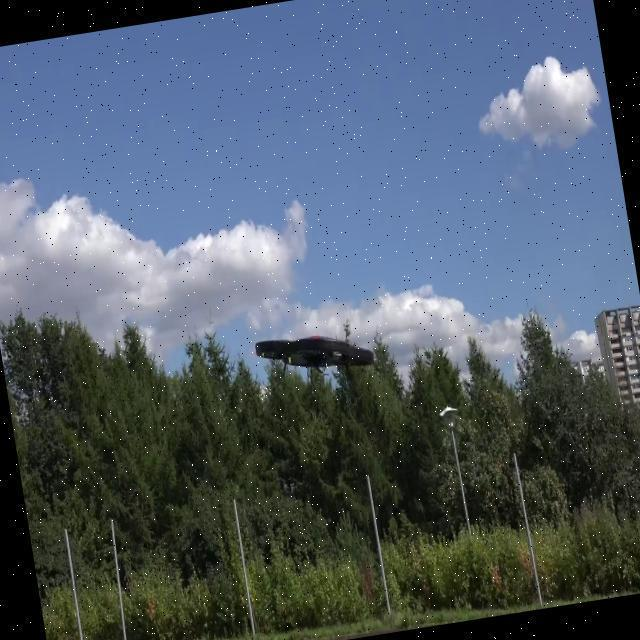Drons: (247, 316, 385, 402)
